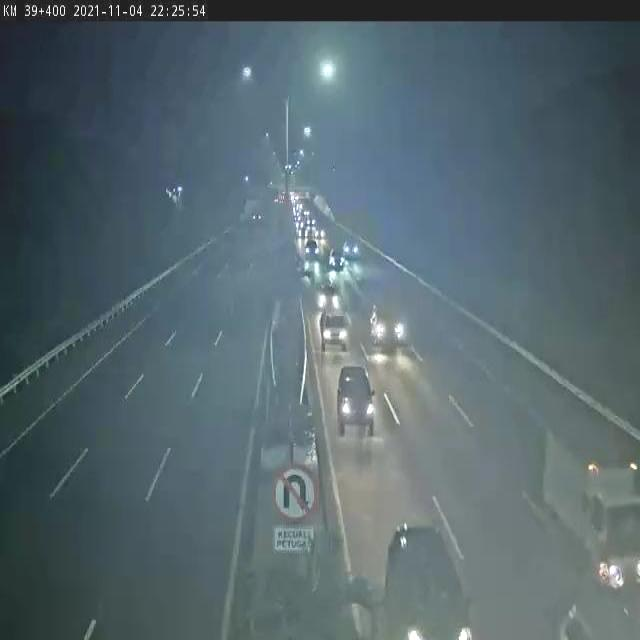Car: (385, 514, 475, 640), (337, 362, 377, 436), (369, 300, 406, 353), (316, 307, 350, 353), (318, 281, 340, 309)
Truck: (541, 415, 640, 597)
